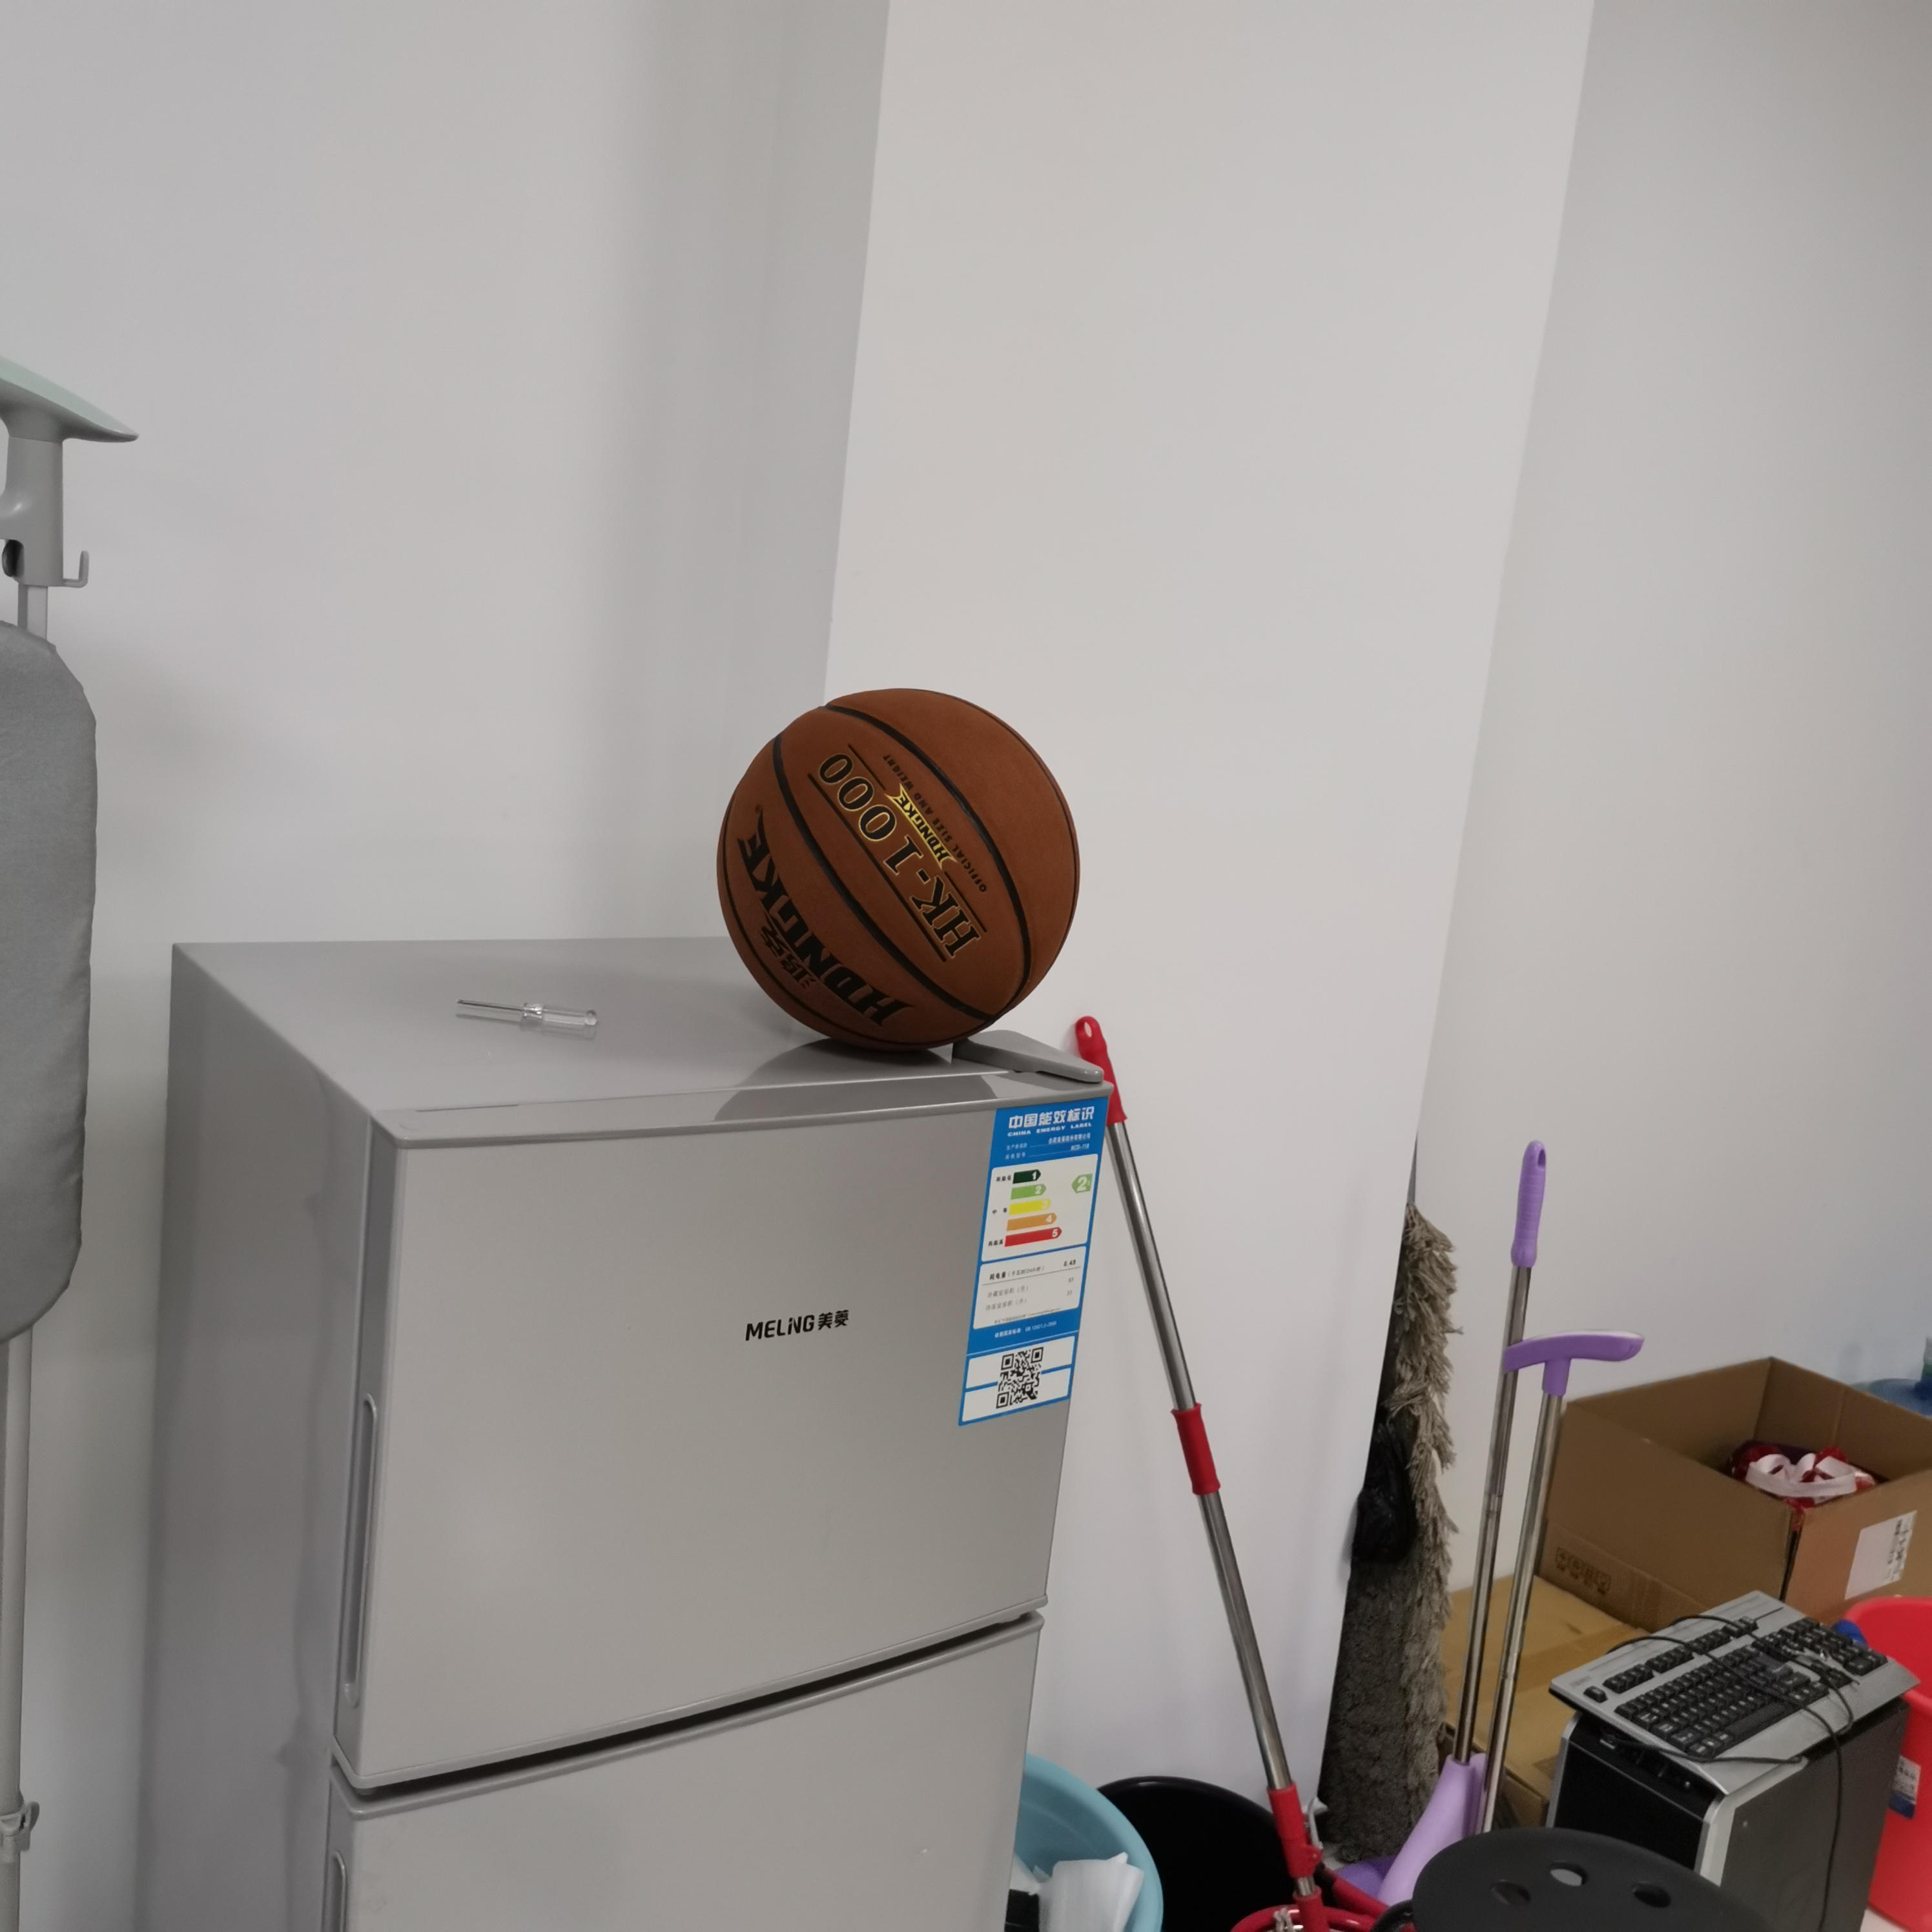basketball: (717, 688, 1081, 1049)
